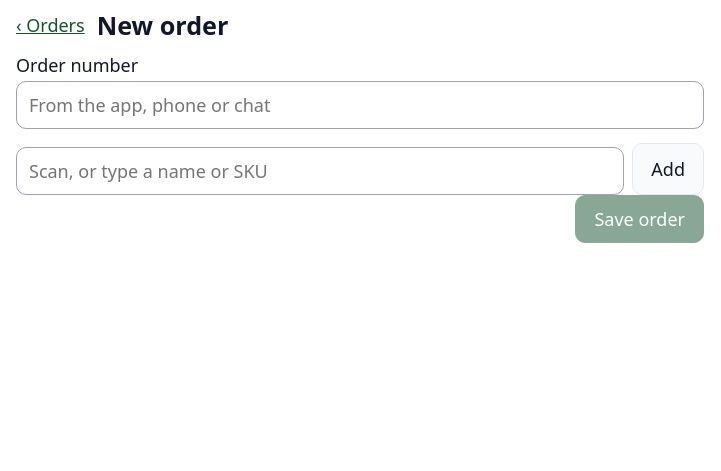
Test: new order screen › says when nothing matches and when the order number is taken
Type "zzz" into the field named "Add an item".
click(320, 171); type("zzz")  # box [16,147,624,195]
Then press Enter
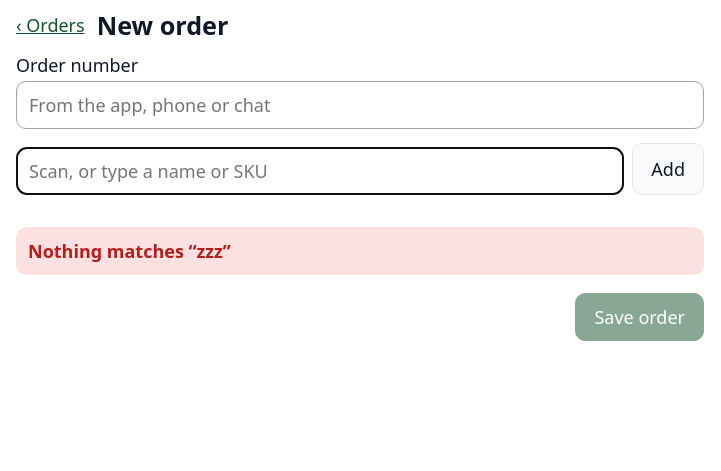
Check: the message reads "Nothing matches “zzz”", box [28,239,231,263]
Type "milk" into the field named "Add an item".
click(320, 171); type("milk")  # box [16,147,624,195]
Then press Enter
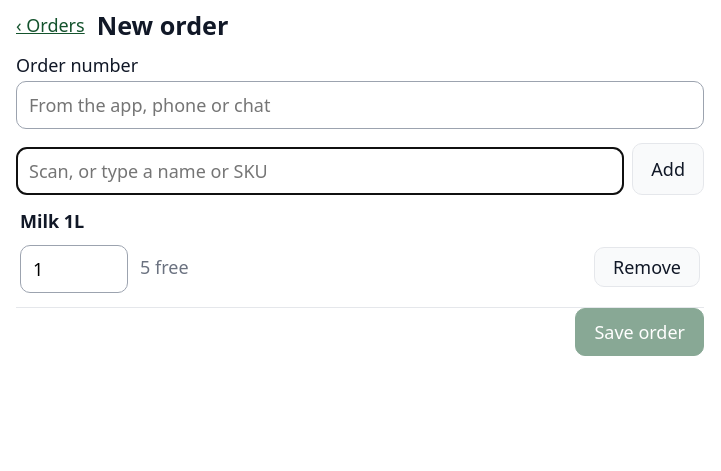
Check: the number field named "How many Milk 1L" is shown, box [20,245,128,293]
Type "ZP-1001" into the field labelled "Order number".
click(360, 105); type("ZP-1001")  # box [16,81,704,129]
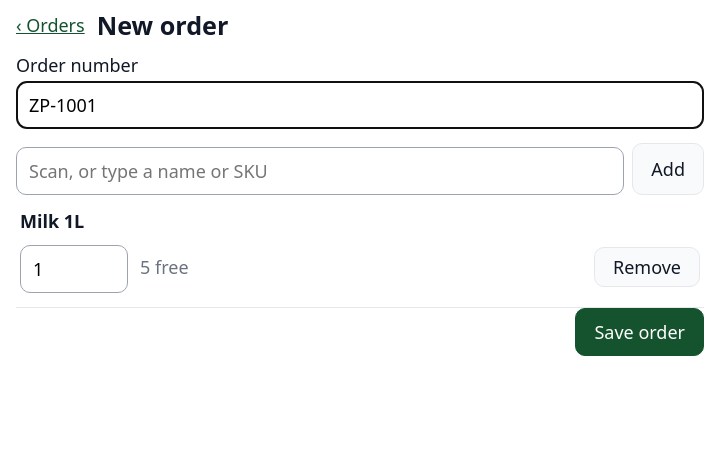
Click the button "Save order".
click(640, 332)  # box [575,308,704,356]
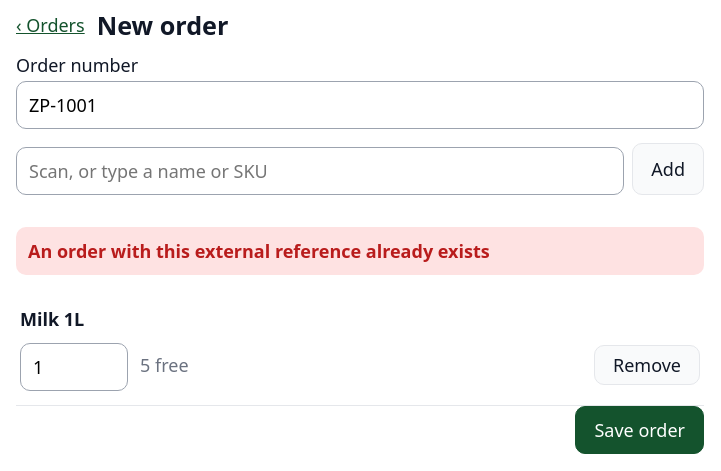
Check: the message reads "An order with this external reference already exists", box [28,239,490,263]
